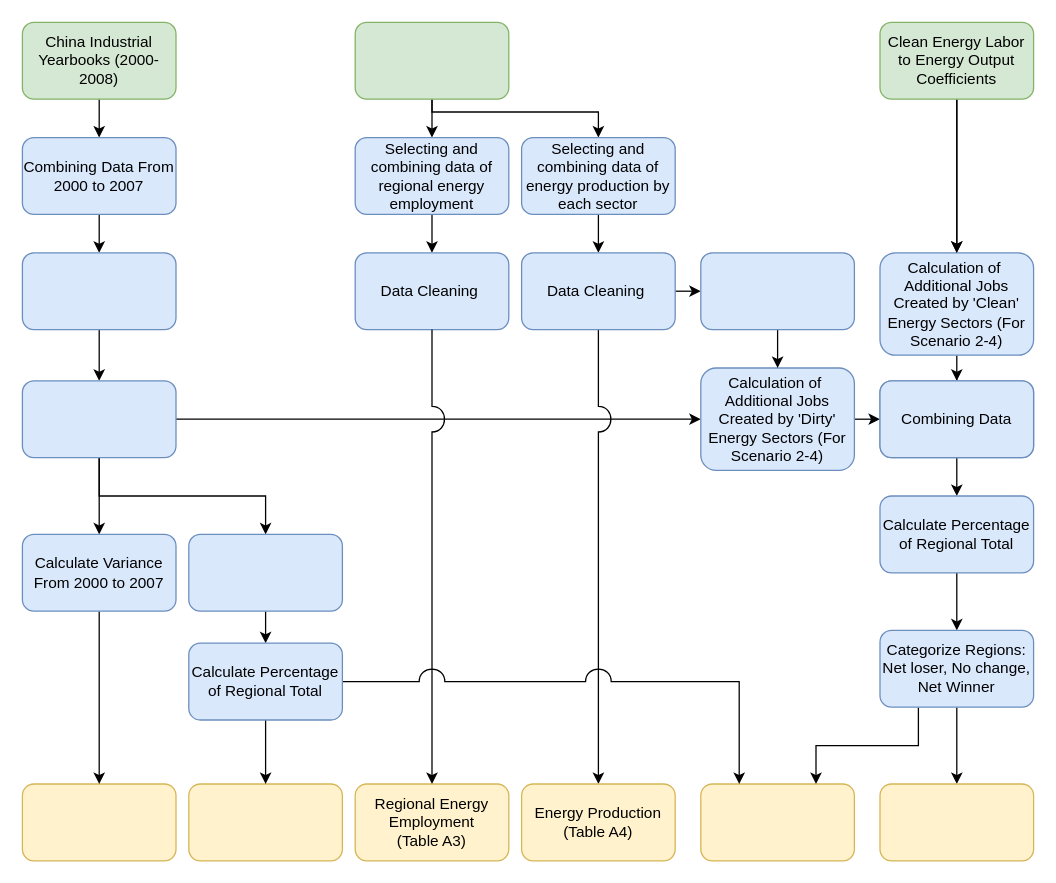
The diagram is 1056 pixels wide and 883 high, and some of its shapes have lost their labels. Each missing label, with the centre of its shape:
Calculate Dirty Energy Labor to Energy Output Coefficients: the point at 777,291
Calculate Mean From 2000 to 2007: the point at 265,572
Calculation of Total Employment: the point at 98,419
China Data Online: the point at 431,60
Coefficient of Variation within Region by Energy (Table A1): the point at 98,822
Data Cleaning (Selecting Energy Sectors): the point at 98,291
Mean Employment within Region by Energy (Table A2): the point at 265,822
Net Winners and Losers of "Greenest" Transition (Figure 1): the point at 956,822
Regional Percentage of Total Employment in Four Scenarios (Table 1): the point at 777,822
